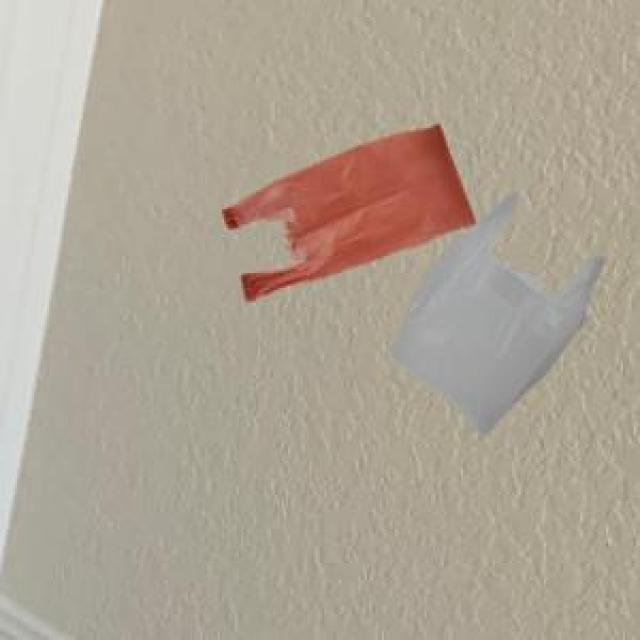waste: (391, 192, 605, 433), (224, 128, 473, 301)
